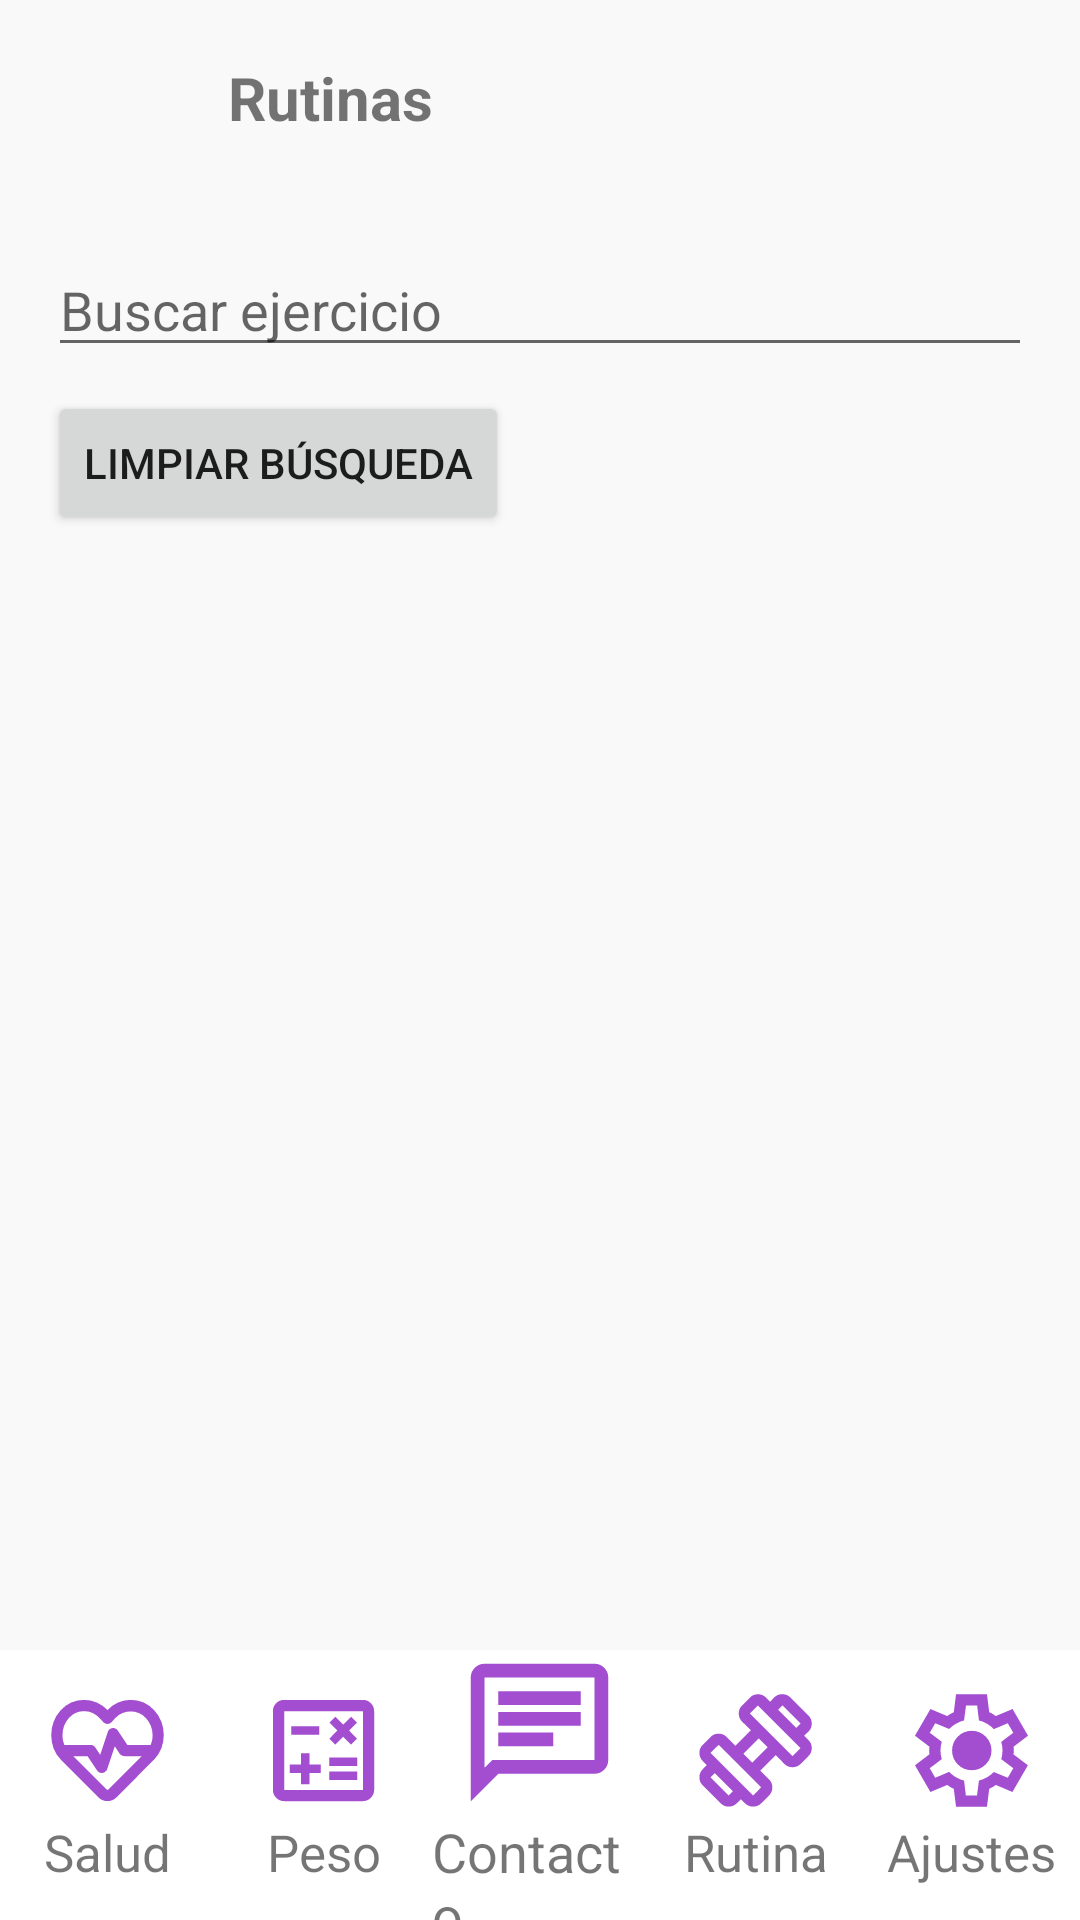

Where icons sit on this 1080×1920 app screen, as bbox(x1, y1, x2, y2):
calculate: bbox(273, 1700, 375, 1802)
chat: bbox(470, 1663, 609, 1801)
ecg heart: bbox(51, 1700, 164, 1801)
exercise: bbox(699, 1694, 812, 1807)
